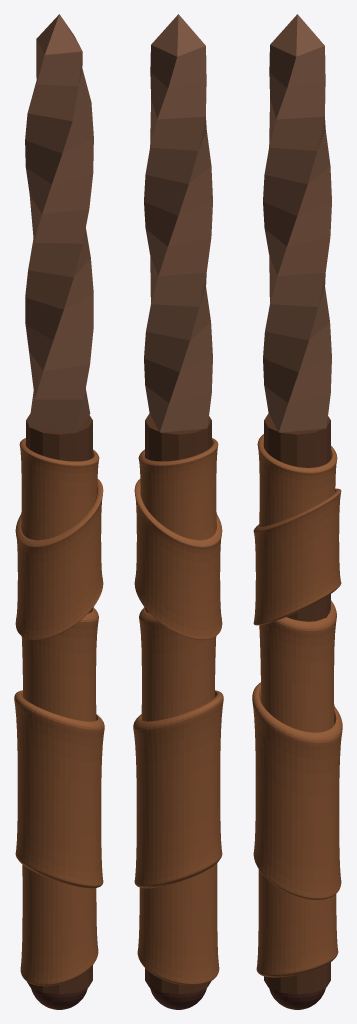
File: Wand 353.glb
3 renders of one model, left to right at view 1: azimuth 30°, elevation 25°; view 2: azimuth 150°, elevation 25°; view 3: azimuth 330°, elevation 25°, orthographic.
Visible parts, largest first — view 1: GeneratedWand; view 2: GeneratedWand; view 3: GeneratedWand.
Boxes of the visible parts, box(x1,y1,x2,y2) form: GeneratedWand: box(14, 14, 104, 1009); GeneratedWand: box(133, 14, 223, 1009); GeneratedWand: box(252, 14, 342, 1009).
Bounding box in the file's own units: 0.0408 × 0.4939 × 0.0408.
